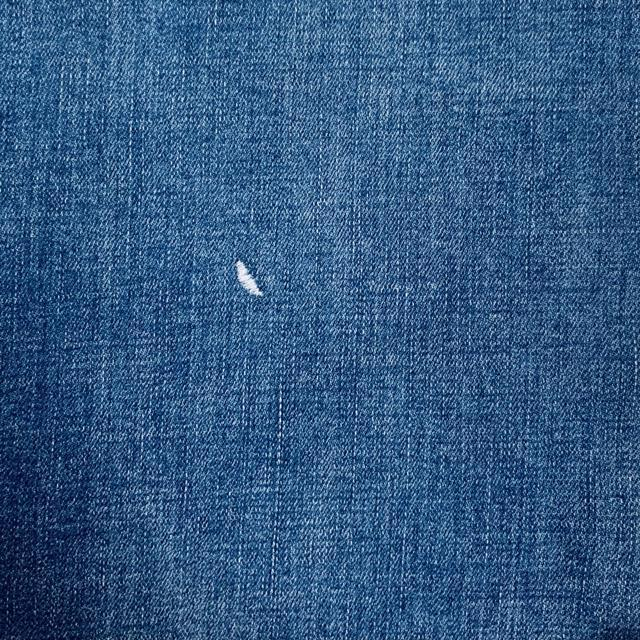Knot: (235, 261, 263, 296)
